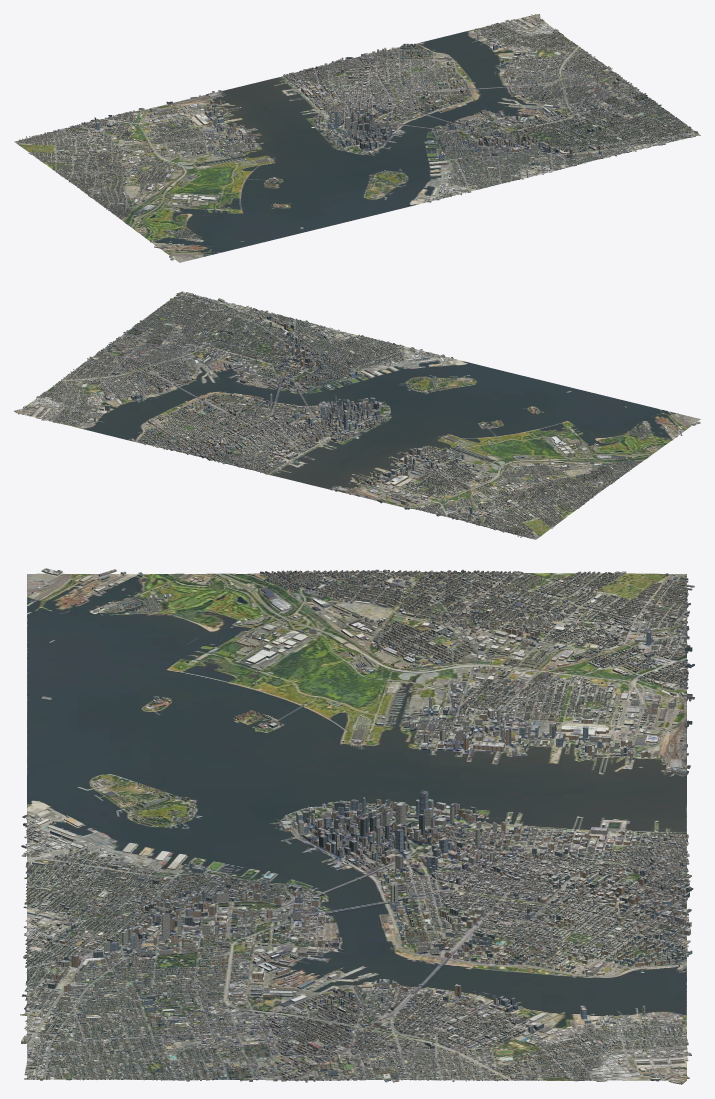
Rendered from uptown.glb.
3 views of the same model, one above another, from view 1: azimuth 30°, elevation 25°; view 2: azimuth 150°, elevation 25°; view 3: azimuth 270°, elevation 25° (orthographic). The views are drawn at different scales.
Parts seen in each view (by area): view 1: Map_Map1_0, Building1_Wall1_0, Building5_Wall5_0, Building6_Wall6_0, Building2_Wall2_0, Building4_Wall4_0, Building3_Wall3_0; view 2: Map_Map1_0, Building1_Wall1_0, Building5_Wall5_0, Building6_Wall6_0, Building2_Wall2_0, Building3_Wall3_0, Building4_Wall4_0; view 3: Map_Map1_0, Building1_Wall1_0, Building5_Wall5_0, Building6_Wall6_0, Building2_Wall2_0, Building4_Wall4_0, Building3_Wall3_0.
Boxes of the visible parts, box(x1,y1,x2,y2) form: Map_Map1_0: box(14, 14, 700, 262); Building1_Wall1_0: box(19, 17, 700, 250); Building5_Wall5_0: box(26, 16, 697, 246); Building6_Wall6_0: box(18, 19, 696, 260); Building2_Wall2_0: box(25, 14, 696, 257); Building4_Wall4_0: box(19, 19, 698, 257); Building3_Wall3_0: box(25, 19, 698, 239); Map_Map1_0: box(14, 291, 700, 539); Building1_Wall1_0: box(27, 293, 682, 537); Building5_Wall5_0: box(18, 292, 667, 537); Building6_Wall6_0: box(26, 294, 700, 537); Building2_Wall2_0: box(14, 292, 682, 535); Building3_Wall3_0: box(26, 292, 655, 536); Building4_Wall4_0: box(23, 293, 680, 538); Map_Map1_0: box(20, 568, 694, 1083); Building1_Wall1_0: box(21, 570, 691, 1082); Building5_Wall5_0: box(21, 570, 694, 1081); Building6_Wall6_0: box(25, 570, 692, 1082); Building2_Wall2_0: box(22, 570, 694, 1084); Building4_Wall4_0: box(23, 570, 694, 1081); Building3_Wall3_0: box(20, 570, 693, 1081).
Bounding box in the file's own units: 15523 × 503 × 8601.
Materials: 7 (7 with a texture image).
